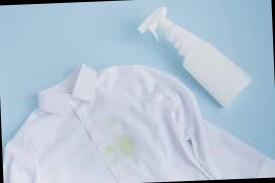oil: (101, 134, 139, 163)
